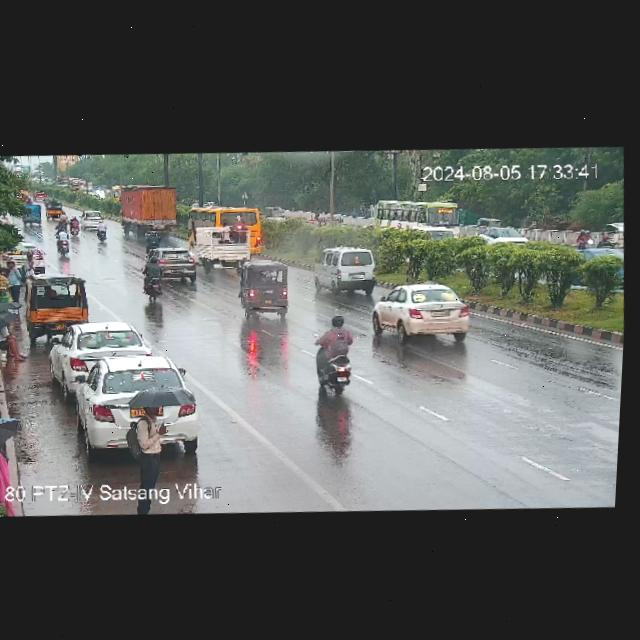bus: (181, 200, 262, 273), (369, 197, 466, 245)
car: (71, 352, 192, 441), (368, 277, 475, 348), (54, 321, 151, 389), (23, 271, 95, 335), (235, 258, 298, 323), (314, 246, 381, 299), (144, 244, 202, 283), (0, 243, 51, 276), (484, 223, 530, 247), (22, 204, 42, 228), (44, 200, 66, 221), (80, 208, 98, 230)
motorcycle: (311, 312, 358, 397), (137, 257, 166, 301), (55, 226, 73, 257), (574, 229, 597, 250), (95, 218, 108, 243), (148, 228, 161, 252), (68, 214, 80, 236), (58, 211, 68, 224)
person: (126, 387, 175, 488), (0, 407, 35, 518), (0, 318, 27, 365), (5, 259, 25, 303), (24, 254, 36, 276)
truck: (112, 180, 184, 237), (189, 222, 251, 274)
